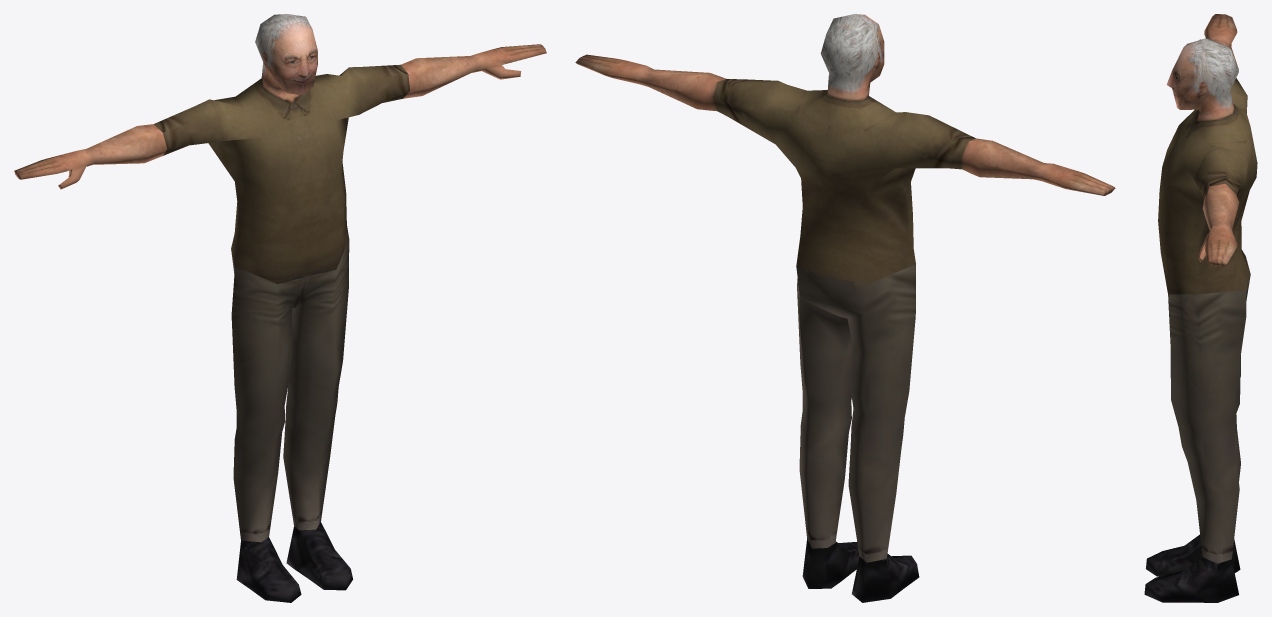
The model's file is male.fbx.
3 views of the same model, side by side, from view 1: azimuth 30°, elevation 25°; view 2: azimuth 150°, elevation 25°; view 3: azimuth 270°, elevation 25° (orthographic). The views are drawn at different scales.
Parts seen in each view (by area): view 1: Character_Male; view 2: Character_Male; view 3: Character_Male.
Boxes of the visible parts, x1,y1,x2,y2 form: Character_Male: (14, 14, 546, 602); Character_Male: (575, 14, 1115, 602); Character_Male: (1144, 14, 1257, 602).
Bounding box in the file's own units: 4091 × 4173 × 787.
1 material, 1 textured.
